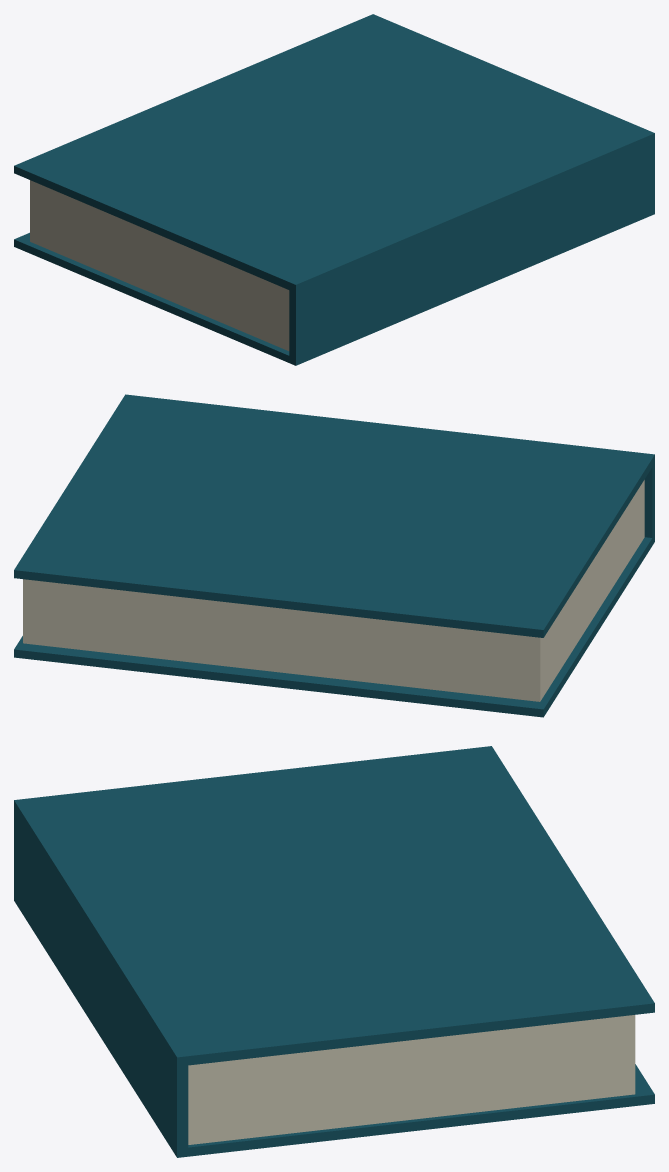
The model's file is book.fbx.
3 views of the same model, one above another, from view 1: azimuth 30°, elevation 25°; view 2: azimuth 150°, elevation 25°; view 3: azimuth 270°, elevation 25° (orthographic). The views are drawn at different scales.
Parts seen in each view (by area): view 1: book01; view 2: book01; view 3: book01.
Part boxes in pixels (x1,y1,x2,y2): book01: (14,14,654,365); book01: (14,394,654,717); book01: (14,746,654,1157).
Size of the model in its own units: 2.98 by 0.4491 by 2.6.
